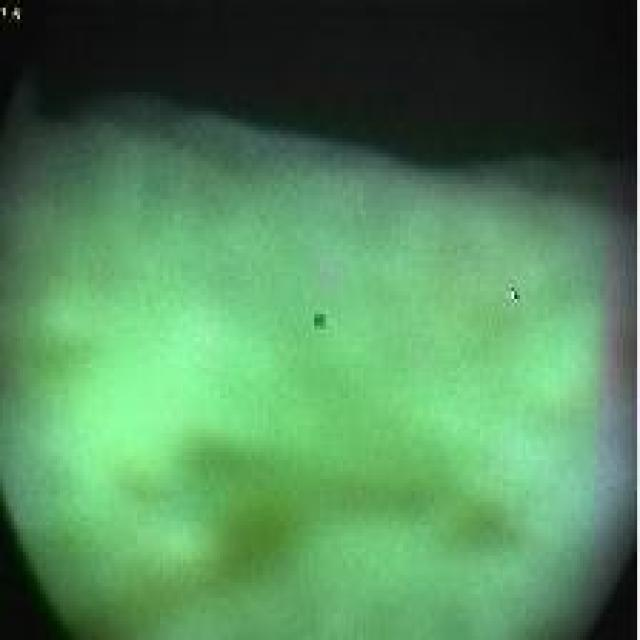blur: (11, 122, 602, 623)
color misalignment: (306, 304, 333, 338), (1, 1, 25, 36), (505, 271, 522, 318)
contrast: (46, 14, 630, 179)
